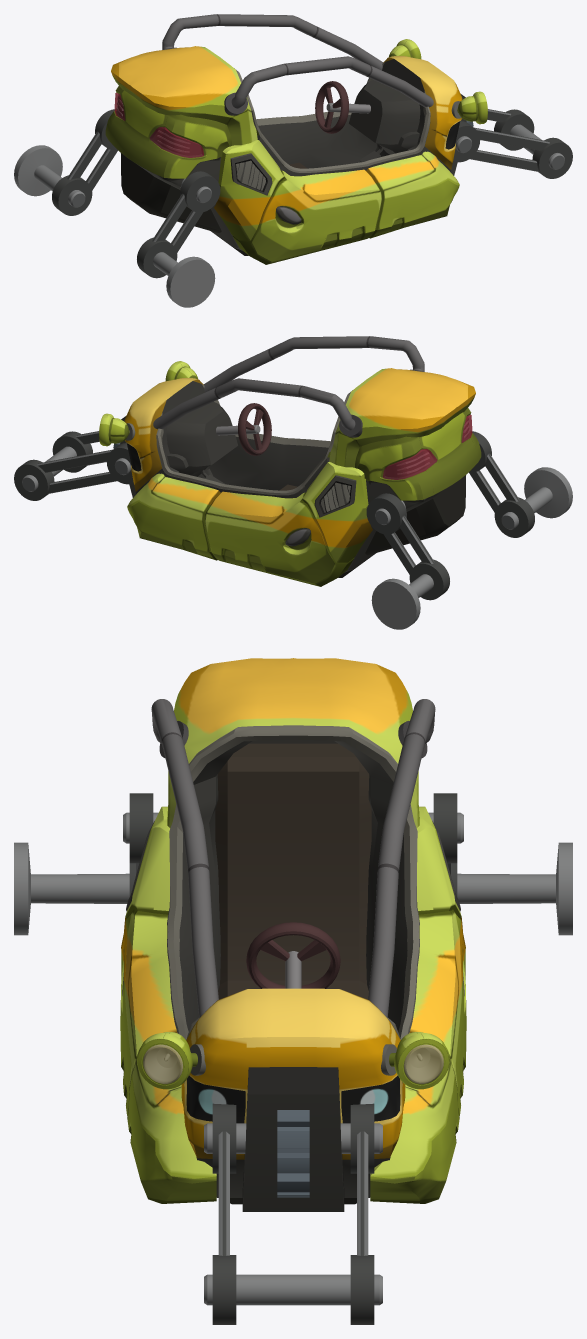
The model's file is chassis_5.glb.
3 views of the same model, one above another, from view 1: azimuth 30°, elevation 25°; view 2: azimuth 150°, elevation 25°; view 3: azimuth 270°, elevation 25° (orthographic). The views are drawn at different scales.
Parts seen in each view (by area): view 1: HCR2_Rtt_Body_1, HCR2_Rtt_RMount_4, HCR2_Rtt_Interior_8, HCR2_Rtt_Dome_7, HCR2_Rtt_FMount_3, HCR2_Rtt_Steer_9, HCR2_Rtt_RLights_Cover_11, HCR2_Rtt_RLights_10; view 2: HCR2_Rtt_Body_1, HCR2_Rtt_RMount_4, HCR2_Rtt_Interior_8, HCR2_Rtt_Dome_7, HCR2_Rtt_FMount_3, HCR2_Rtt_Steer_9, HCR2_Rtt_RLights_Cover_11, HCR2_Rtt_RLights_10; view 3: HCR2_Rtt_Body_1, HCR2_Rtt_Interior_8, HCR2_Rtt_Dome_7, HCR2_Rtt_FMount_3, HCR2_Rtt_RMount_4, HCR2_Rtt_Steer_9.
Boxes of the visible parts, x1=… form: HCR2_Rtt_Body_1: x1=105, y1=39, x2=487, y2=264; HCR2_Rtt_RMount_4: x1=14, y1=109, x2=220, y2=307; HCR2_Rtt_Interior_8: x1=258, y1=59, x2=424, y2=168; HCR2_Rtt_Dome_7: x1=162, y1=14, x2=433, y2=115; HCR2_Rtt_FMount_3: x1=453, y1=109, x2=572, y2=178; HCR2_Rtt_Steer_9: x1=315, y1=81, x2=370, y2=133; HCR2_Rtt_RLights_Cover_11: x1=114, y1=92, x2=203, y2=157; HCR2_Rtt_RLights_10: x1=116, y1=94, x2=203, y2=157; HCR2_Rtt_Body_1: x1=99, y1=361, x2=481, y2=586; HCR2_Rtt_RMount_4: x1=366, y1=431, x2=572, y2=629; HCR2_Rtt_Interior_8: x1=162, y1=381, x2=328, y2=490; HCR2_Rtt_Dome_7: x1=153, y1=336, x2=424, y2=437; HCR2_Rtt_FMount_3: x1=14, y1=431, x2=133, y2=500; HCR2_Rtt_Steer_9: x1=216, y1=403, x2=271, y2=455; HCR2_Rtt_RLights_Cover_11: x1=383, y1=414, x2=472, y2=479; HCR2_Rtt_RLights_10: x1=383, y1=416, x2=470, y2=479; HCR2_Rtt_Body_1: x1=120, y1=658, x2=466, y2=1211; HCR2_Rtt_Interior_8: x1=179, y1=740, x2=407, y2=1031; HCR2_Rtt_Dome_7: x1=151, y1=699, x2=435, y2=1017; HCR2_Rtt_FMount_3: x1=204, y1=1103, x2=382, y2=1324; HCR2_Rtt_RMount_4: x1=14, y1=793, x2=572, y2=935; HCR2_Rtt_Steer_9: x1=246, y1=922, x2=340, y2=988.
Bounding box in the file's own units: 3.69 × 1.56 × 2.18.
1 material, 1 textured.
